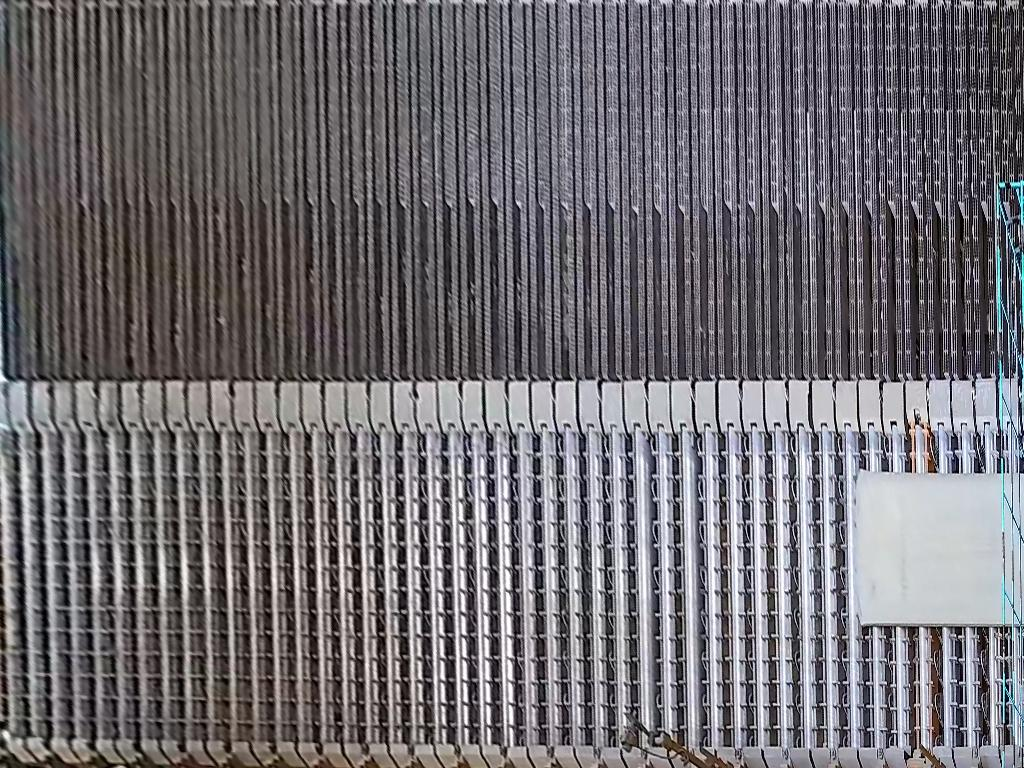steel: (855, 468, 1024, 628)
